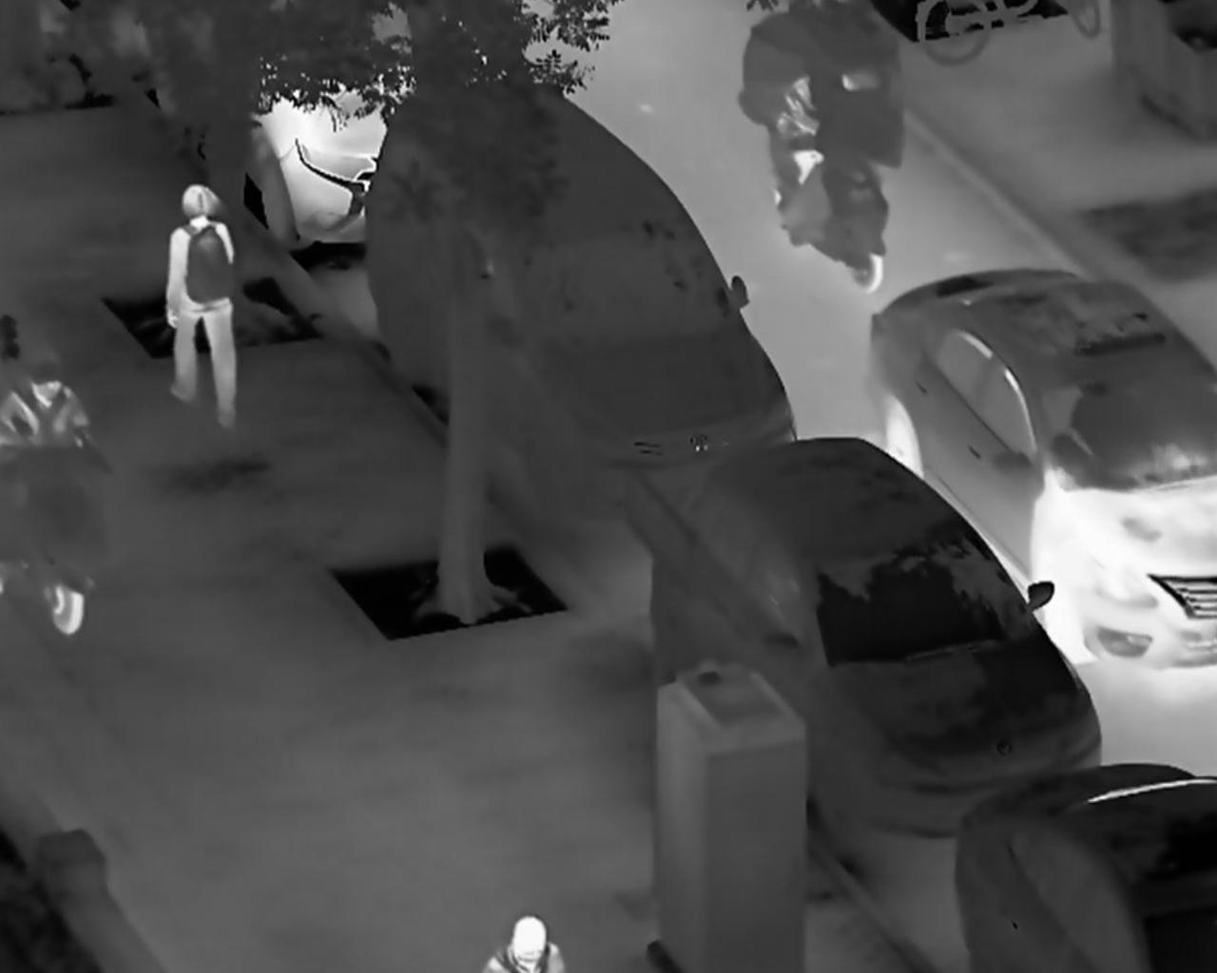person: (160, 181, 248, 432), (772, 47, 862, 187)
